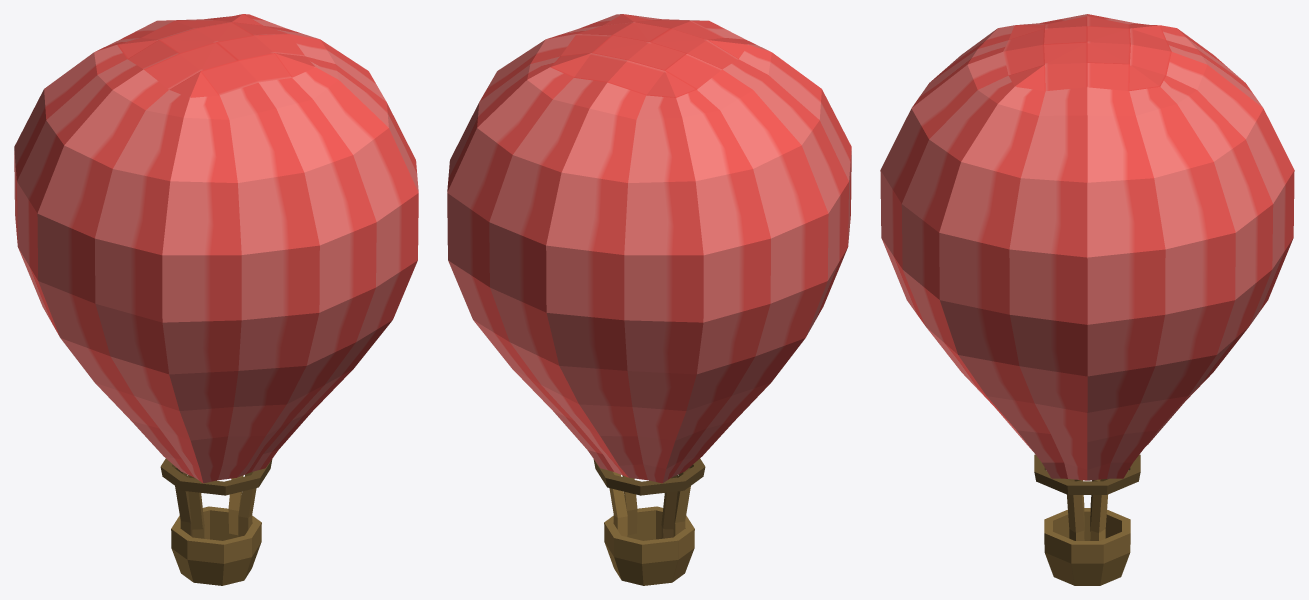
File: hot air balloon.fbx
3 views of the same model, side by side, from view 1: azimuth 30°, elevation 25°; view 2: azimuth 150°, elevation 25°; view 3: azimuth 270°, elevation 25° (orthographic).
Parts seen in each view (by area): view 1: hot-air-balloon_LOD0; view 2: hot-air-balloon_LOD0; view 3: hot-air-balloon_LOD0.
Part boxes in pixels (left/top/right/bottom): hot-air-balloon_LOD0: left=14, top=14, right=418, bottom=585; hot-air-balloon_LOD0: left=447, top=14, right=851, bottom=585; hot-air-balloon_LOD0: left=880, top=14, right=1294, bottom=585.
Size of what is drawn, in the model's own units: 7.55 by 10.66 by 7.55.
